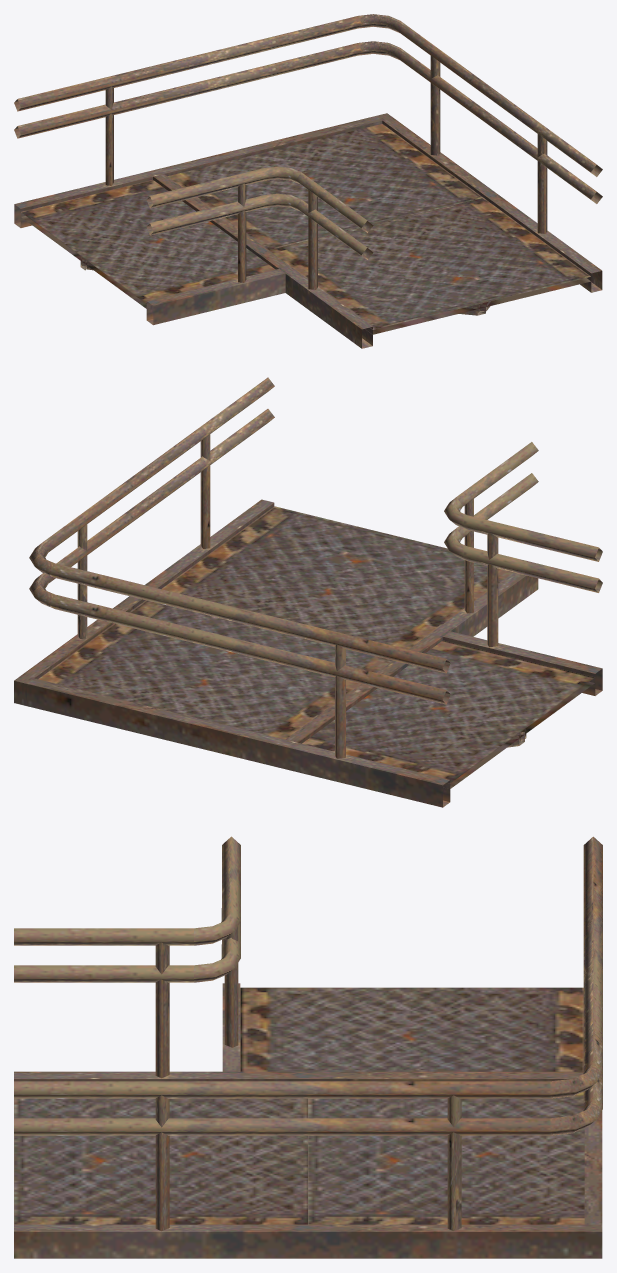
The model's file is Bridge_turn.fbx.
The picture shows the model from 3 angles, top to bottom: view 1: azimuth 30°, elevation 25°; view 2: azimuth 150°, elevation 25°; view 3: azimuth 270°, elevation 25°; orthographic projection. The views are drawn at different scales.
Visible parts, largest first — view 1: Bridge_turn; view 2: Bridge_turn; view 3: Bridge_turn.
Part boxes in pixels (<box>): Bridge_turn: <box>14,14,602,348</box>; Bridge_turn: <box>14,377,602,807</box>; Bridge_turn: <box>14,836,602,1258</box>.
Bounding box in the file's own units: 324 × 105 × 324.
